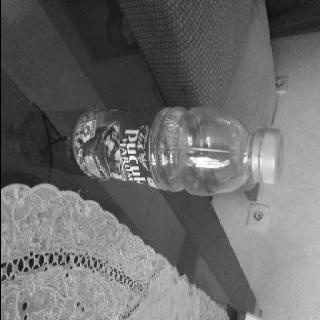plastic_bottles: (66, 104, 284, 200)
